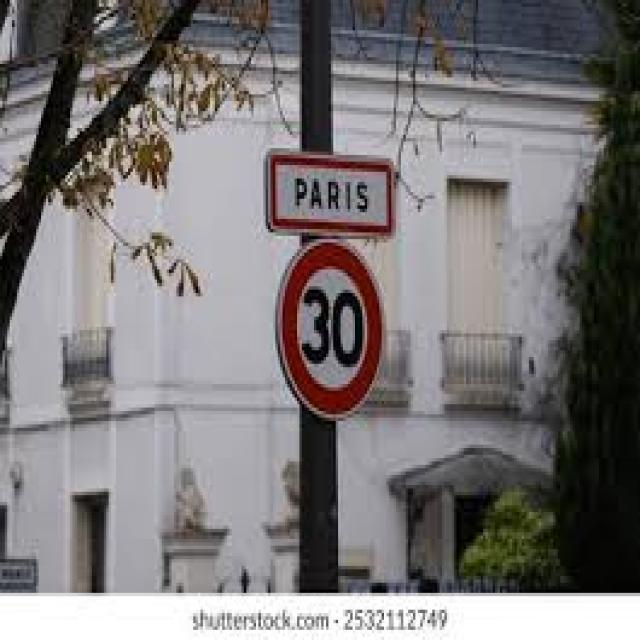Speed limit 30: (272, 237, 388, 422)
